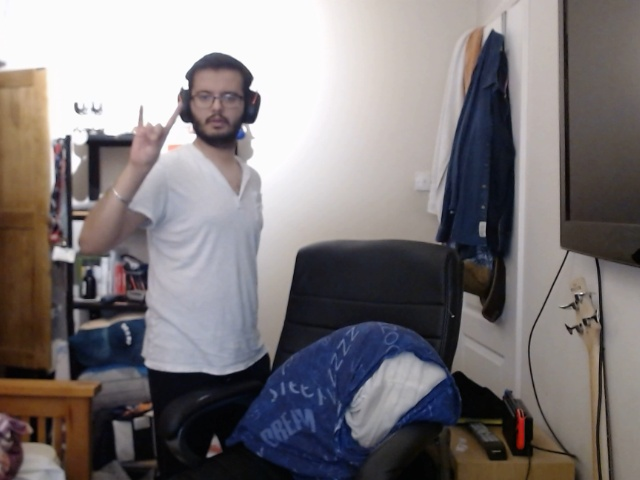Rock on: (120, 97, 181, 172)
